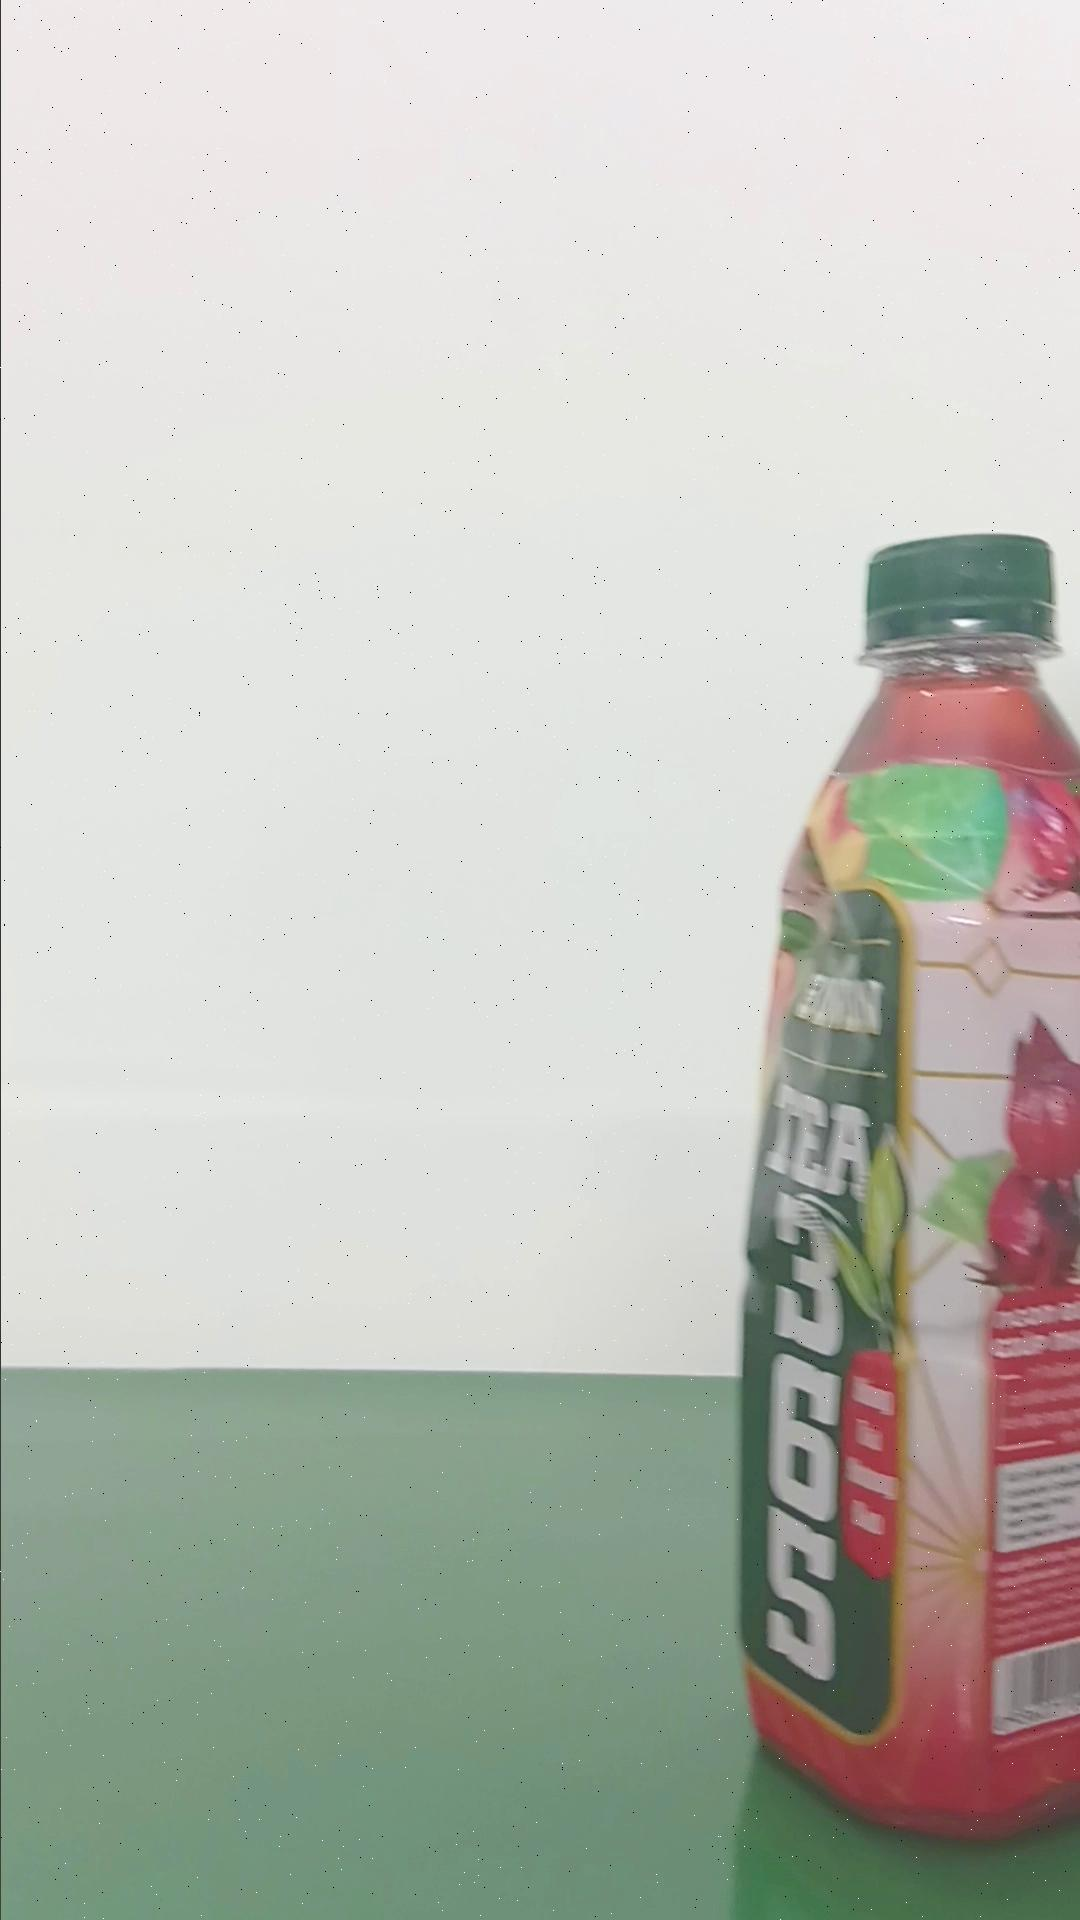loi meo sp: (733, 529, 1077, 1841)
